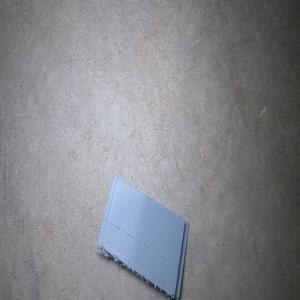PlasticPart: (95, 174, 189, 300)
